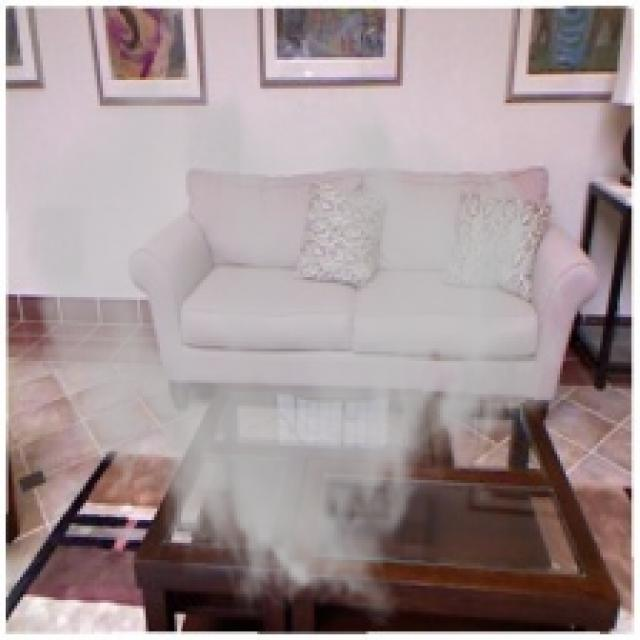smoke: (11, 63, 572, 628)
